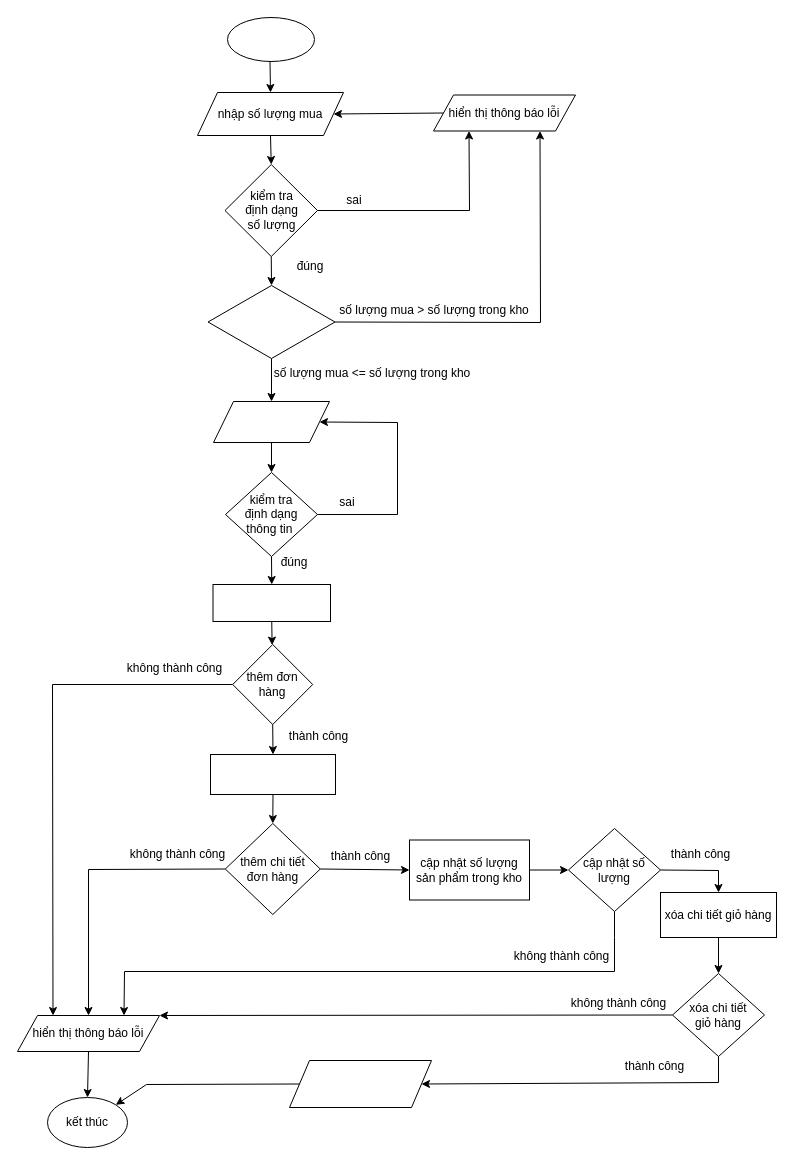
Some shapes in this 794 by 1165 pixel diagram are drawn without their labels. The shapes that lost their labels are listed below. From the top down, each one's centre as x and y in pixels, then its label:
(270,39): bắt đầu
(271,321): so sánh số lượng
(271,421): nhập thông tin
(271,603): thêm đơn hàng vào CSDL
(273,774): thêm chi tiết đơn hàng vào CSDL
(360,1084): hiển thị thông báo đặt hàng thành công
